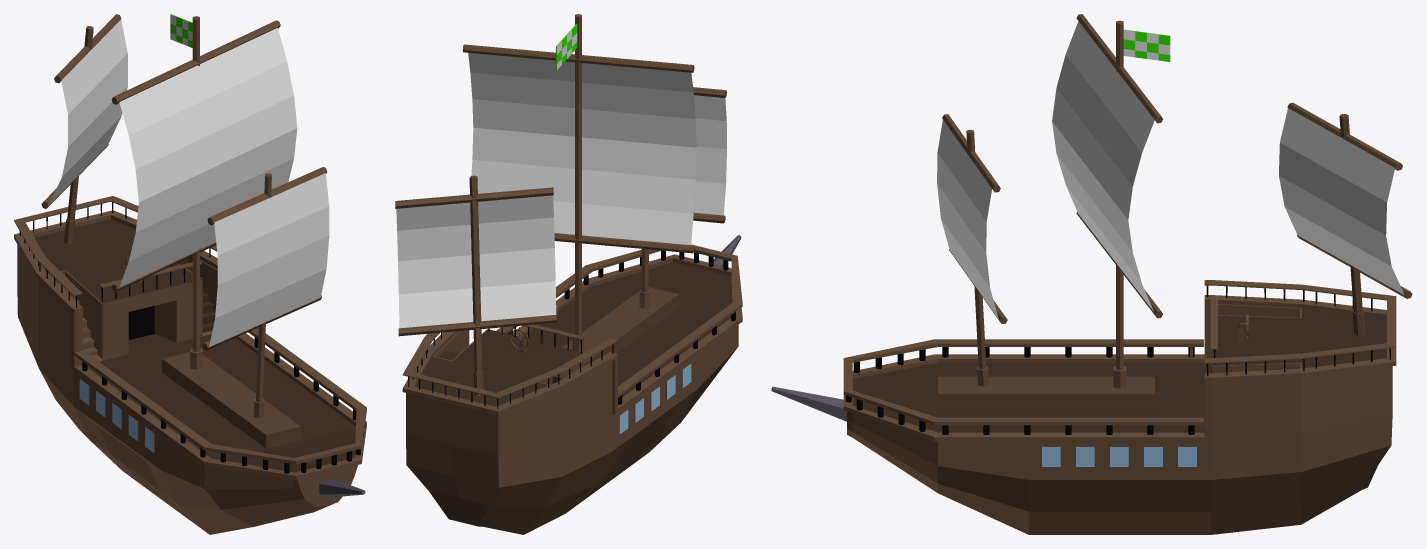
File: ship.fbx
3 renders of one model, left to right at view 1: azimuth 30°, elevation 25°; view 2: azimuth 150°, elevation 25°; view 3: azimuth 270°, elevation 25°, orthographic. The views are drawn at different scales.
Parts seen in each view (by area): view 1: lod, plachta1, plachta2, plachta3, vchod; view 2: lod, plachta1, plachta3, plachta2, vchod; view 3: lod, plachta1, plachta3, plachta2.
Boxes of the visible parts, bbox=[...] form: lod: bbox=[14, 196, 366, 534]; plachta1: bbox=[111, 14, 297, 369]; plachta2: bbox=[202, 166, 329, 418]; plachta3: bbox=[41, 14, 127, 244]; vchod: bbox=[97, 425, 186, 515]; lod: bbox=[402, 235, 742, 534]; plachta1: bbox=[462, 14, 696, 352]; plachta3: bbox=[395, 175, 557, 396]; plachta2: bbox=[639, 87, 726, 308]; vchod: bbox=[588, 408, 673, 494]; lod: bbox=[771, 280, 1396, 534]; plachta1: bbox=[1052, 14, 1170, 388]; plachta3: bbox=[1279, 102, 1412, 336]; plachta2: bbox=[937, 114, 1007, 386].
Bounding box in the file's own units: 376 × 831 × 971.
